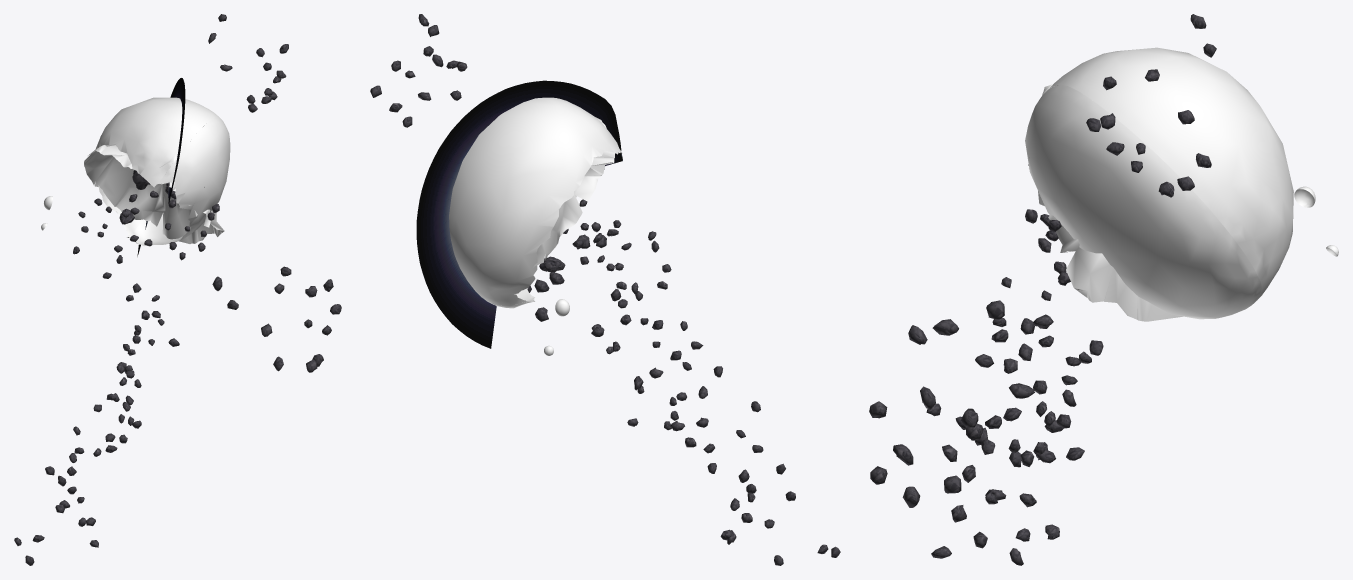
The model's file is env_space_concorddawn_01_pre.glb.
3 renders of one model, left to right at view 1: azimuth 30°, elevation 25°; view 2: azimuth 150°, elevation 25°; view 3: azimuth 270°, elevation 25°, orthographic. The views are drawn at different scales.
Parts seen in each view (by area): view 1: planet_concorddawn_mesh (×2), concord_dawn_asteroids_mesh, concord_dawn_asteroids_sm_mesh (2), concord_dawn_asteroids_sm_mesh, concord_dawn_asteroids_sm_mesh (1), concord_dawn_asteroids_sm_mesh (3), planet_concord_dawn_ring_mesh (1); view 2: planet_concorddawn_mesh (×2), planet_concord_dawn_ring_mesh (1), concord_dawn_asteroids_mesh, concord_dawn_asteroids_sm_mesh, concord_dawn_asteroids_sm_mesh (3), concord_dawn_asteroids_sm_mesh (2); view 3: planet_concorddawn_mesh (×2), concord_dawn_asteroids_mesh, concord_dawn_asteroids_sm_mesh (2), concord_dawn_asteroids_sm_mesh, concord_dawn_asteroids_sm_mesh (1).
Part boxes in pixels (x1,y1,x2,y2): planet_concorddawn_mesh (×2): [84, 97, 230, 246]; concord_dawn_asteroids_mesh: [14, 283, 179, 565]; concord_dawn_asteroids_sm_mesh (2): [212, 266, 341, 372]; concord_dawn_asteroids_sm_mesh: [208, 14, 288, 112]; concord_dawn_asteroids_sm_mesh (1): [129, 190, 219, 260]; concord_dawn_asteroids_sm_mesh (3): [73, 198, 139, 278]; planet_concord_dawn_ring_mesh (1): [137, 78, 185, 256]; planet_concorddawn_mesh (×2): [449, 97, 622, 308]; planet_concord_dawn_ring_mesh (1): [416, 80, 622, 348]; concord_dawn_asteroids_mesh: [591, 281, 840, 565]; concord_dawn_asteroids_sm_mesh: [370, 14, 467, 127]; concord_dawn_asteroids_sm_mesh (3): [572, 220, 671, 294]; concord_dawn_asteroids_sm_mesh (2): [527, 234, 606, 321]; planet_concorddawn_mesh (×2): [1025, 47, 1293, 321]; concord_dawn_asteroids_mesh: [926, 277, 1103, 565]; concord_dawn_asteroids_sm_mesh (2): [869, 300, 1034, 507]; concord_dawn_asteroids_sm_mesh: [1086, 14, 1216, 197]; concord_dawn_asteroids_sm_mesh (1): [1025, 209, 1069, 285].
Size of the model in its own units: 716 by 931 by 549.
5 materials, 2 textured.
